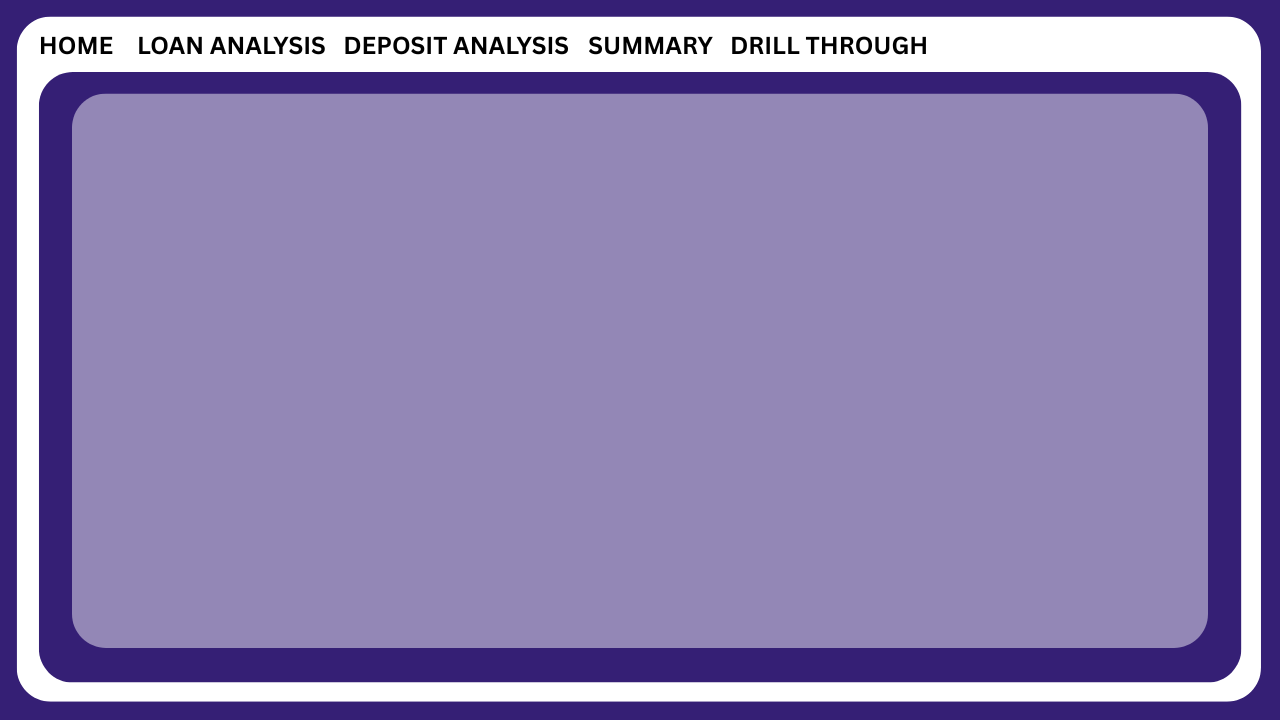

Layout of this report page (visuals, bound fields, positions):
{"tool":"powerbi","page":{"name":"Ask any Questions","canvas":[1280,720],"ordinal":5},"visuals":[{"type":"actionButton","box":[24,20,98,42],"z":1000},{"type":"actionButton","box":[334,22,238,40],"z":2000},{"type":"actionButton","box":[136,22,182,42],"z":3000},{"type":"actionButton","box":[0,0,46.7,40],"z":10000},{"type":"actionButton","box":[581.7,23.3,135,40],"z":11000},{"type":"actionButton","box":[730,23.3,196.7,40],"z":11001},{"type":"qnaVisual","box":[58.3,80,1160,583.3],"z":11002}]}

Visuals, with their boxes in screenshot pixels (x1, y1, x2, y2), scaled from the page's 1280x720 canvas onto the 1280x720 screenshot:
actionButton: bbox=[24, 20, 122, 62]
actionButton: bbox=[334, 22, 572, 62]
actionButton: bbox=[136, 22, 318, 64]
actionButton: bbox=[0, 0, 47, 40]
actionButton: bbox=[582, 23, 717, 63]
actionButton: bbox=[730, 23, 927, 63]
qnaVisual: bbox=[58, 80, 1218, 663]
